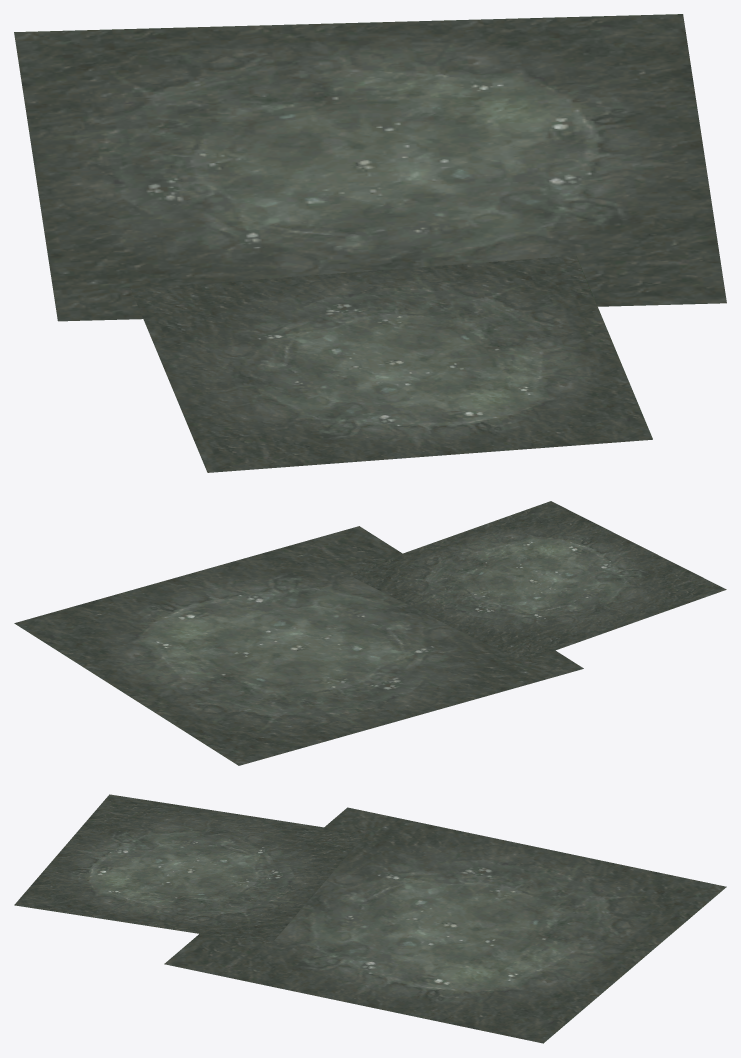
Rendered from stemple_floor_decal_07.fbx.
The picture shows the model from 3 angles, top to bottom: view 1: azimuth 30°, elevation 25°; view 2: azimuth 150°, elevation 25°; view 3: azimuth 270°, elevation 25°; orthographic projection. The views are drawn at different scales.
Visible parts, largest first — view 1: sunken_tileset/sunken_decal01_mat; view 2: sunken_tileset/sunken_decal01_mat; view 3: sunken_tileset/sunken_decal01_mat.
Boxes of the visible parts, box(x1,y1,x2,y2) form: sunken_tileset/sunken_decal01_mat: box(14, 14, 726, 472); sunken_tileset/sunken_decal01_mat: box(14, 501, 726, 765); sunken_tileset/sunken_decal01_mat: box(14, 794, 726, 1043).
Bounding box in the file's own units: 9.08 × 0.001 × 10.99.
